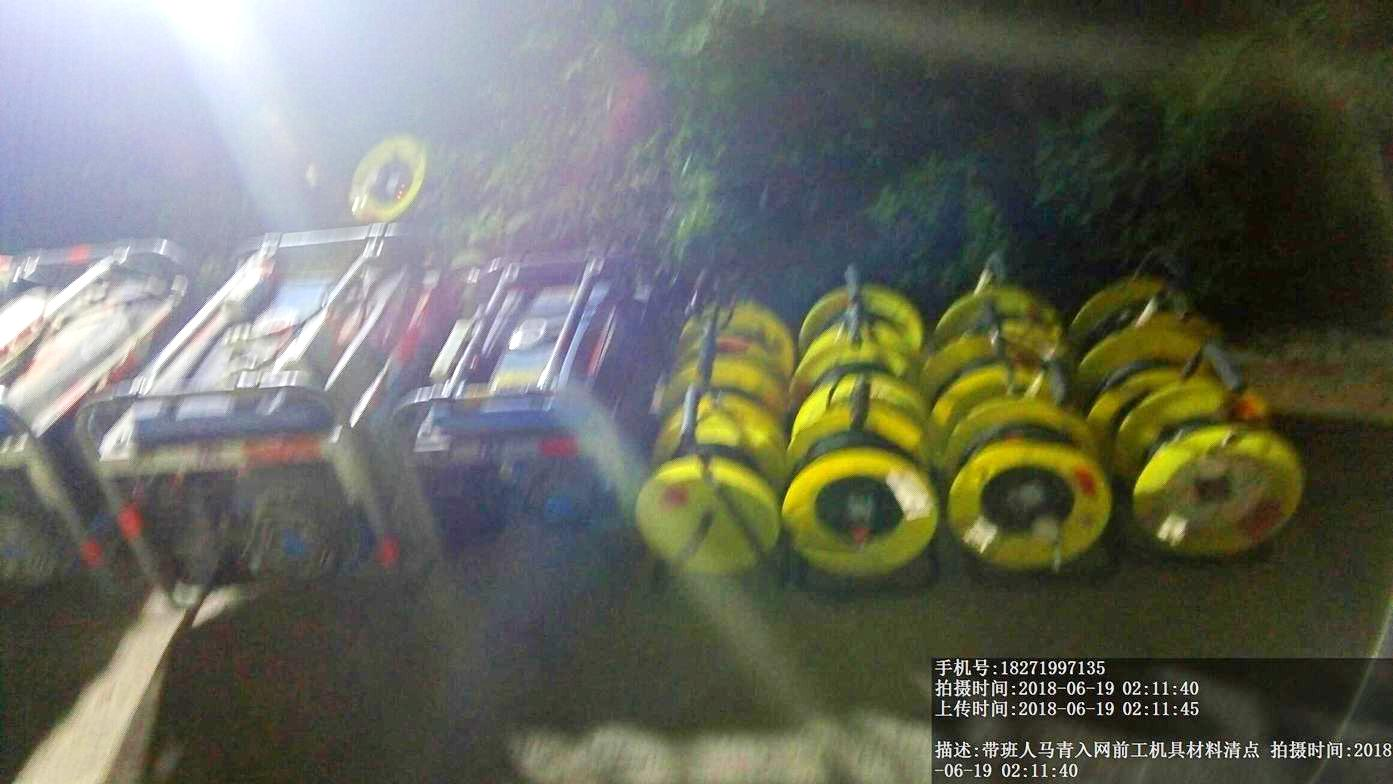DJ: (143, 222, 422, 643), (407, 236, 637, 531)
DX: (1121, 389, 1310, 563), (948, 403, 1110, 582), (788, 416, 943, 589), (635, 407, 783, 586)
